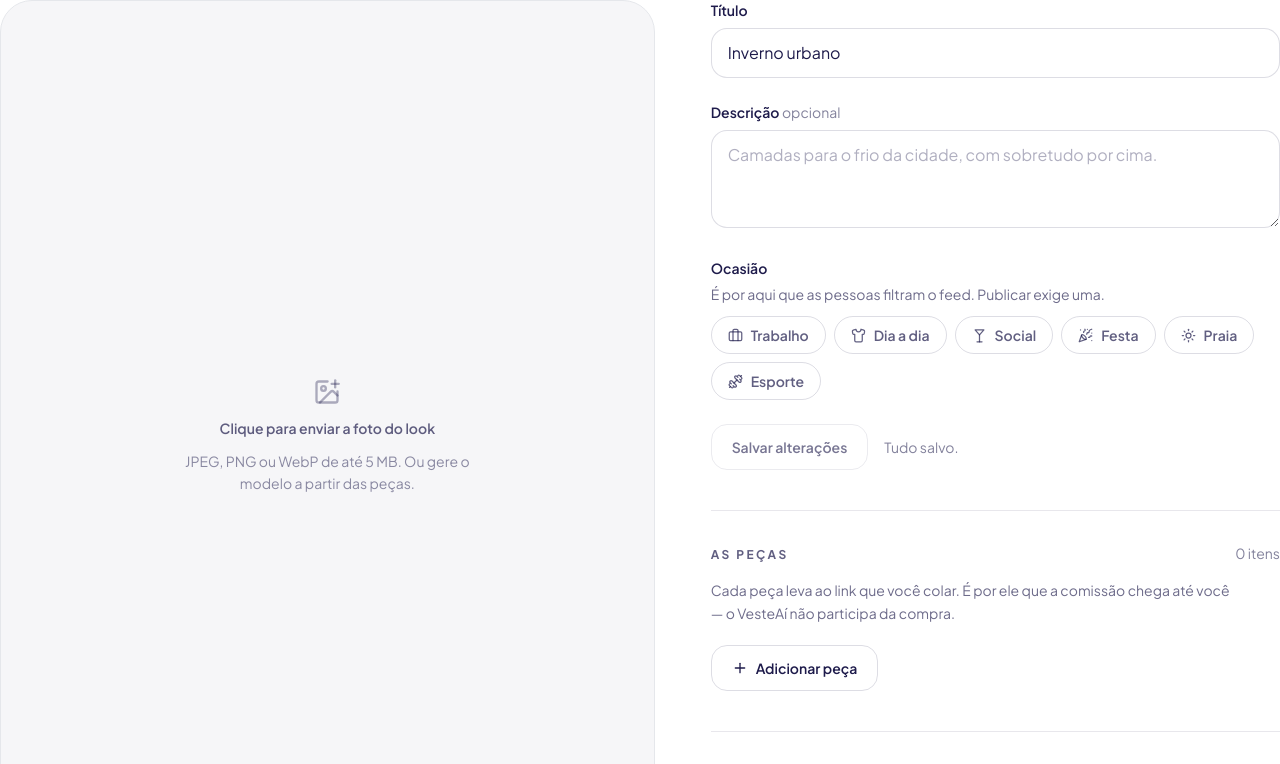
editor de look › adiciona uma peça com nome e link
O formulário virou ação: aparece só depois de pedir.
Click the button "Adicionar peça" at (794, 668), box [711,644,878,690]
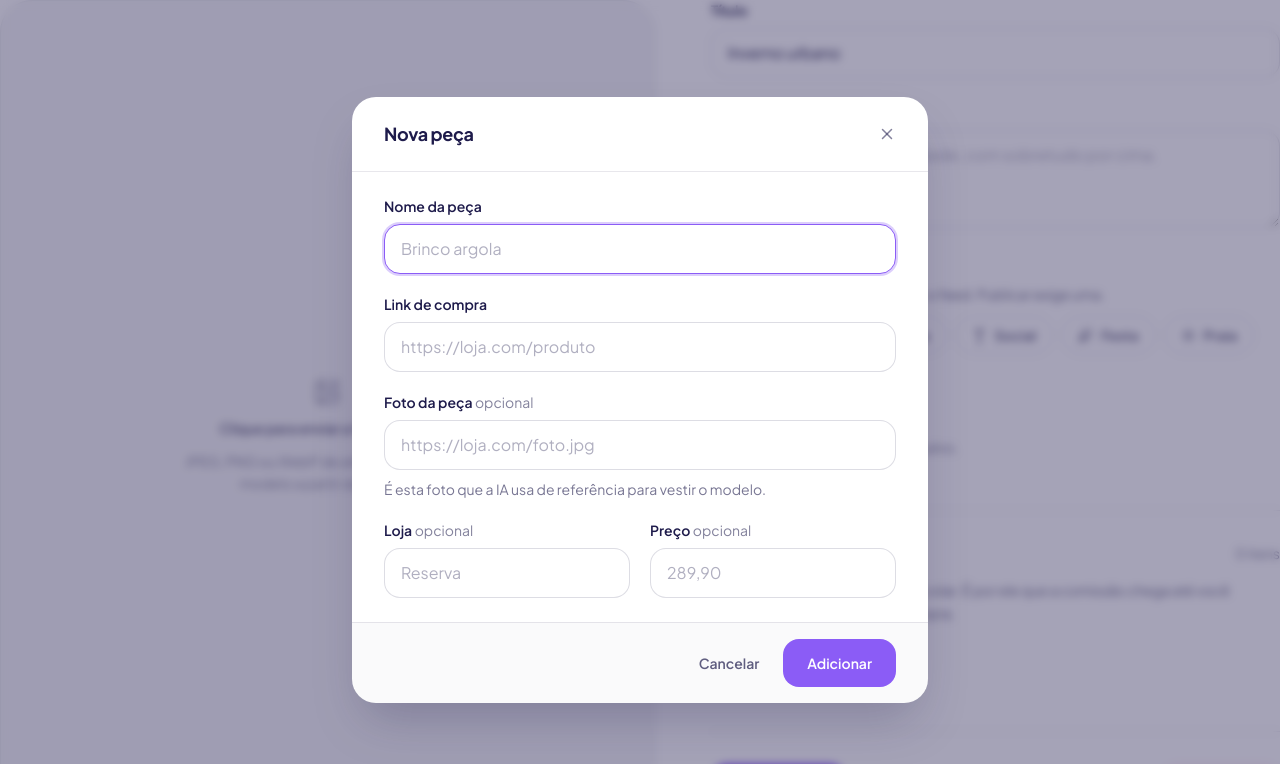
Type "Sobretudo" into the field labelled "Nome da peça" at (640, 249), box [384,224,896,274]
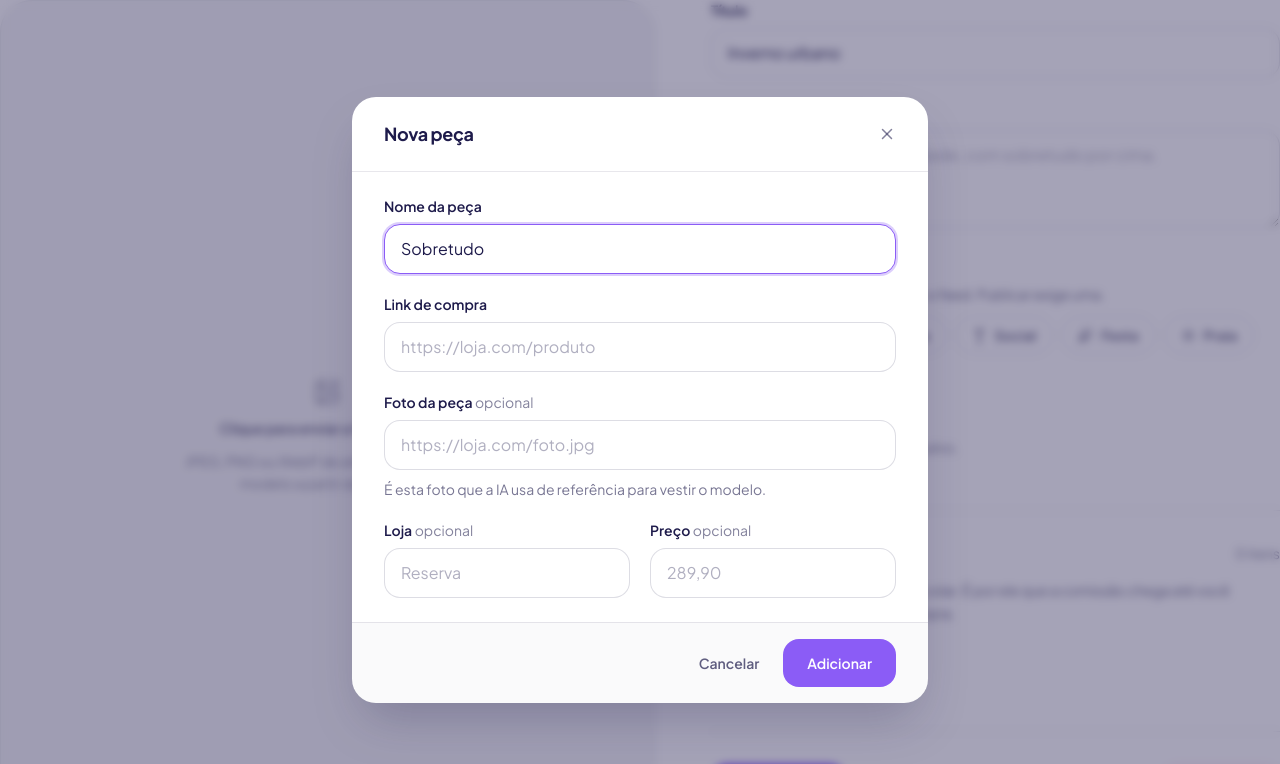
Type "https://loja.com/x" into the field labelled "Link de compra" at (640, 347), box [384,322,896,372]
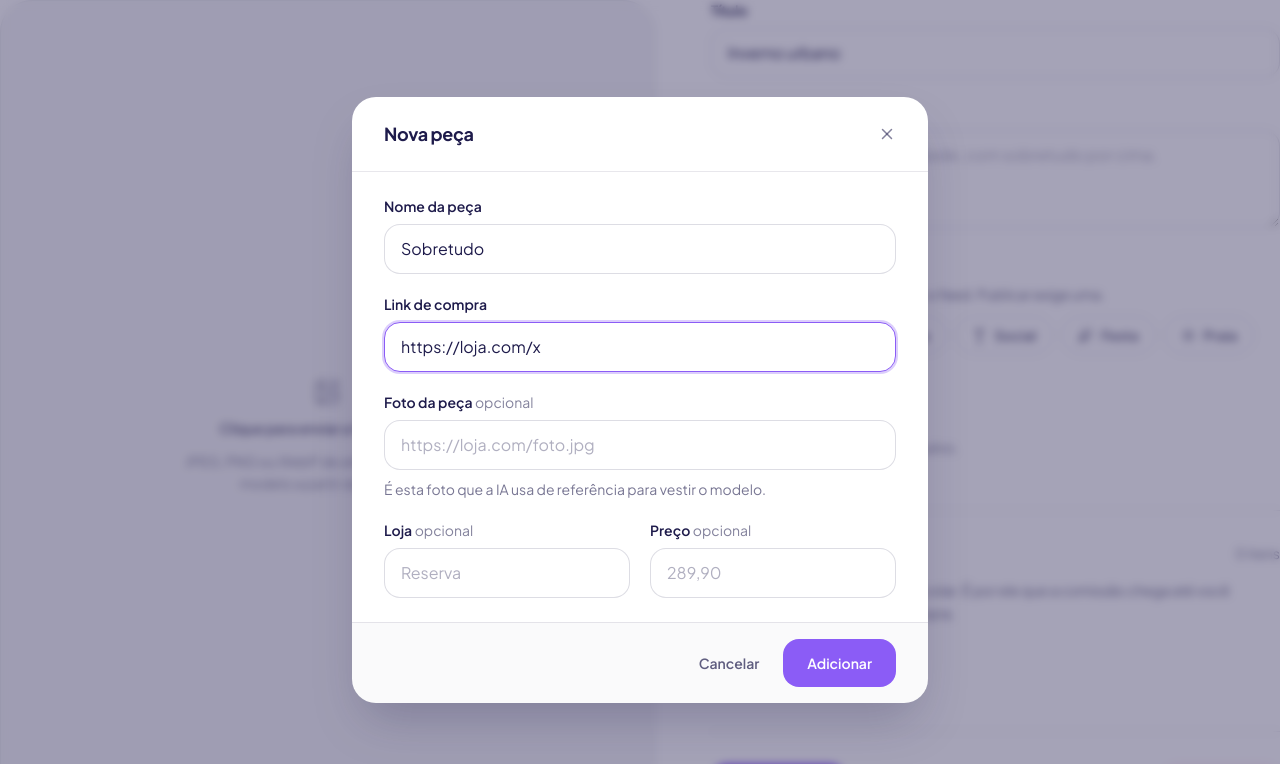
Click the button "Adicionar" at (840, 663), box [783,639,896,687]
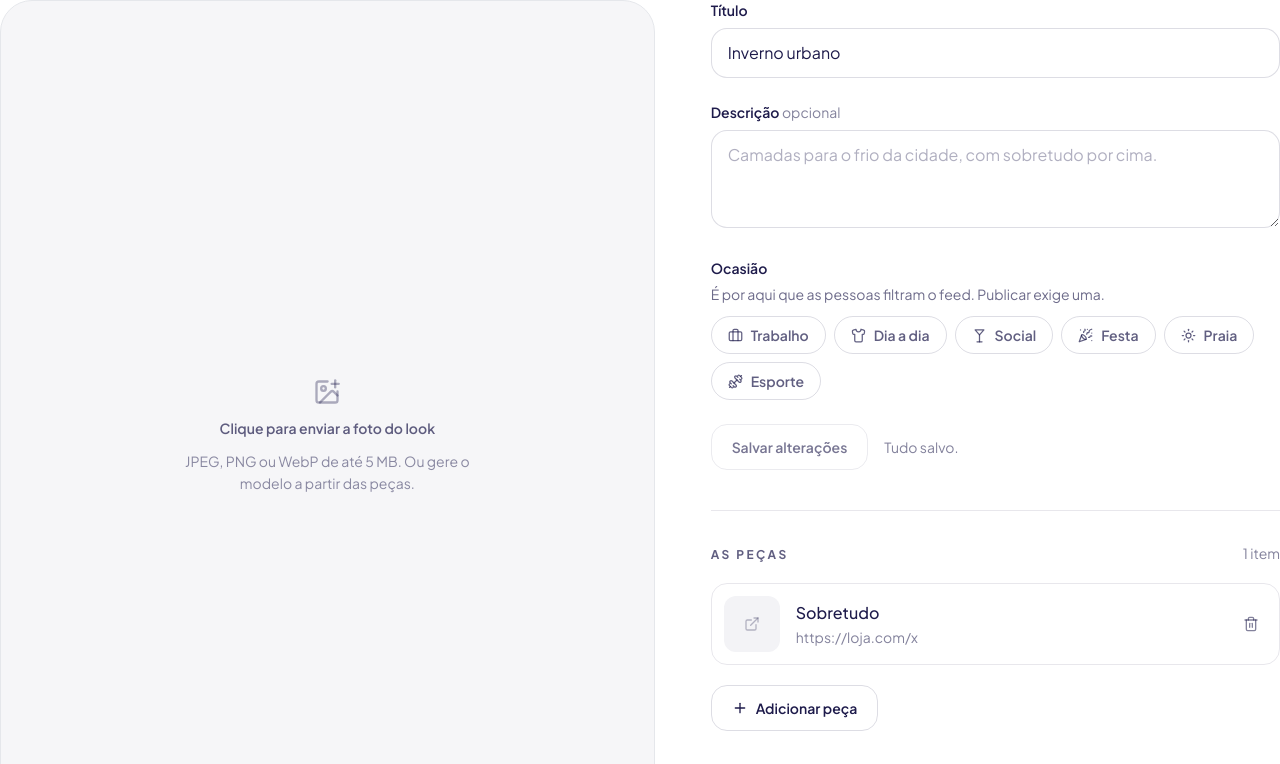
Now the text "Sobretudo" is shown, box [796,602,879,623]
